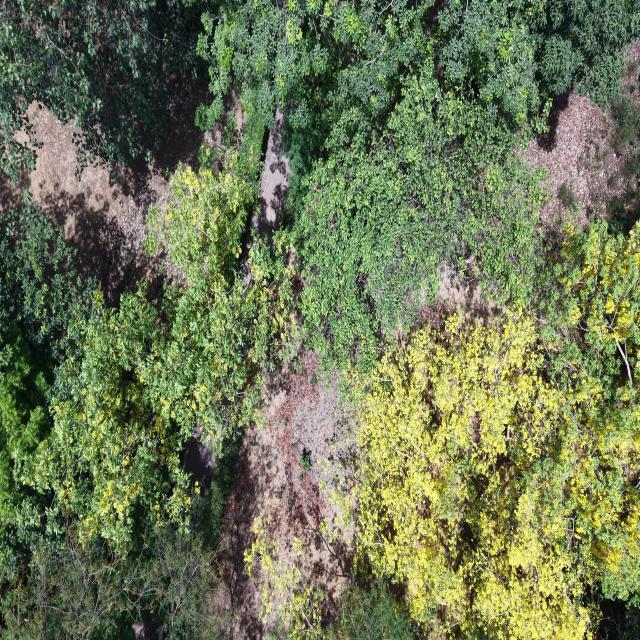DRY_AREA: (21, 85, 223, 305), (212, 350, 357, 639), (212, 352, 356, 639), (21, 83, 206, 305), (211, 352, 354, 639), (212, 352, 354, 639), (213, 352, 355, 639), (212, 352, 354, 638), (214, 352, 354, 639), (212, 353, 351, 638), (23, 86, 205, 303), (219, 354, 354, 638), (24, 103, 169, 305), (29, 104, 170, 305), (526, 91, 626, 234), (526, 91, 625, 226), (527, 92, 622, 224), (240, 110, 288, 282), (420, 263, 505, 323), (251, 110, 288, 234), (0, 174, 21, 210)
VEGETATION_TREE: (0, 0, 639, 639), (0, 120, 292, 638), (351, 223, 639, 638), (355, 223, 639, 638), (0, 0, 639, 179), (24, 153, 290, 552), (355, 307, 639, 638), (197, 0, 639, 208), (293, 64, 545, 364), (199, 0, 639, 127), (146, 116, 293, 442), (24, 290, 195, 553), (0, 0, 206, 180), (0, 481, 223, 639), (0, 206, 87, 579), (197, 0, 433, 127), (438, 0, 639, 124), (245, 518, 414, 639), (547, 222, 639, 393), (244, 518, 323, 637), (313, 580, 415, 639), (608, 60, 639, 231), (323, 582, 414, 639)
